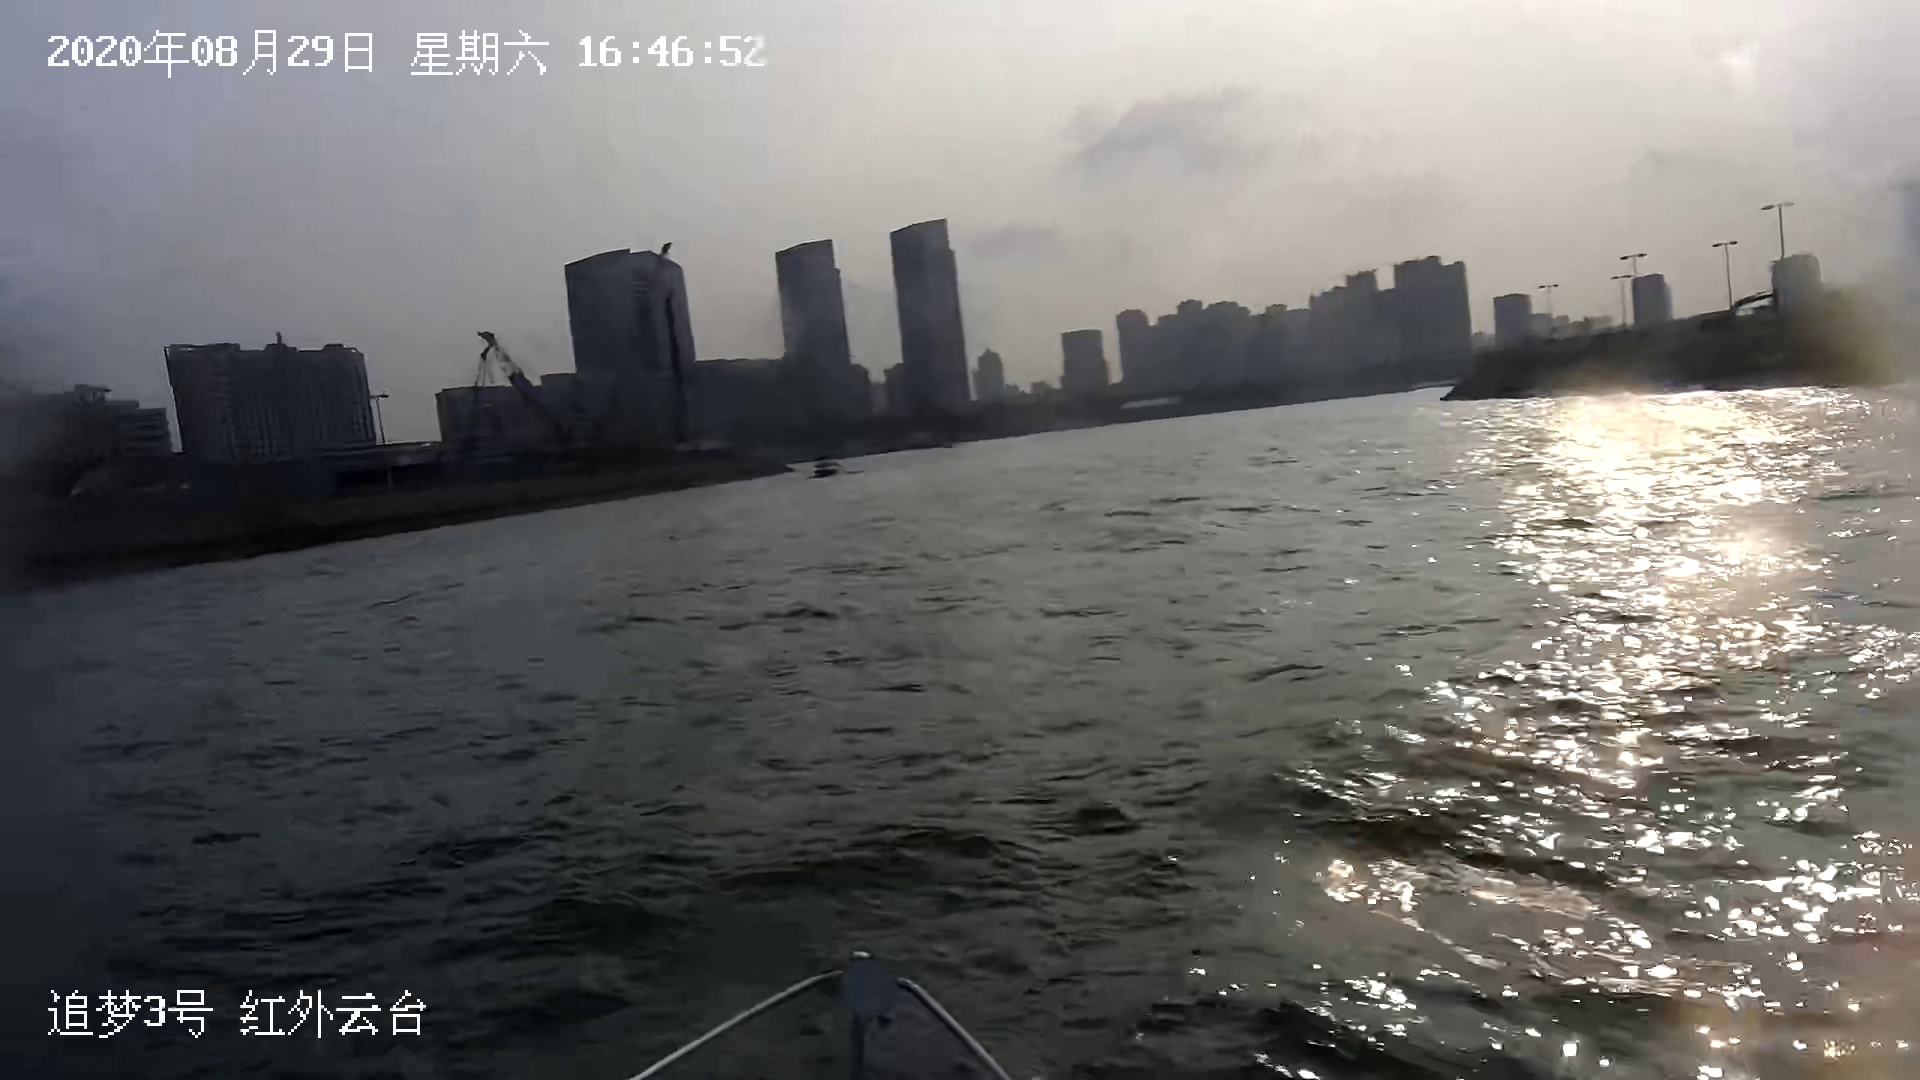barrier: (812, 456, 847, 479)
coast: (17, 193, 1907, 603)
